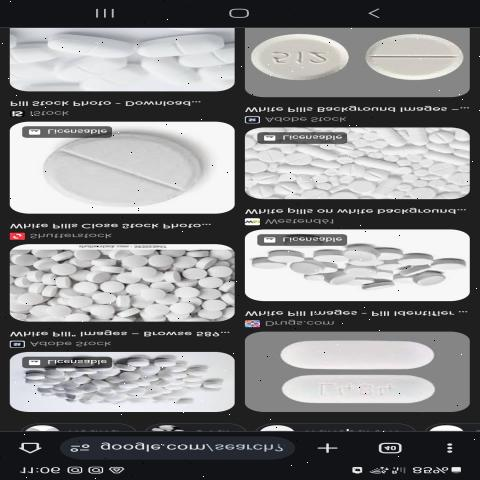Pill: (33, 126, 226, 206), (269, 336, 461, 372), (262, 375, 463, 407), (249, 32, 361, 89), (367, 29, 478, 86), (136, 26, 232, 66), (38, 34, 135, 64), (267, 246, 315, 269), (429, 254, 466, 275), (133, 288, 178, 304), (43, 300, 82, 318), (362, 276, 399, 292)
